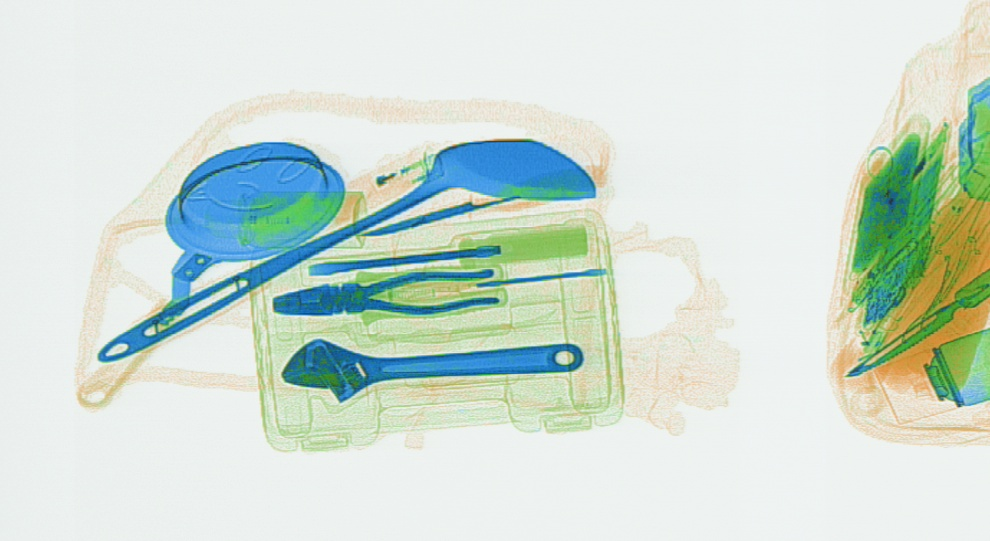knife: (359, 164, 607, 236), (844, 261, 987, 373), (269, 266, 507, 320)
lighter: (331, 148, 442, 221)
pressure: (242, 178, 366, 252)
